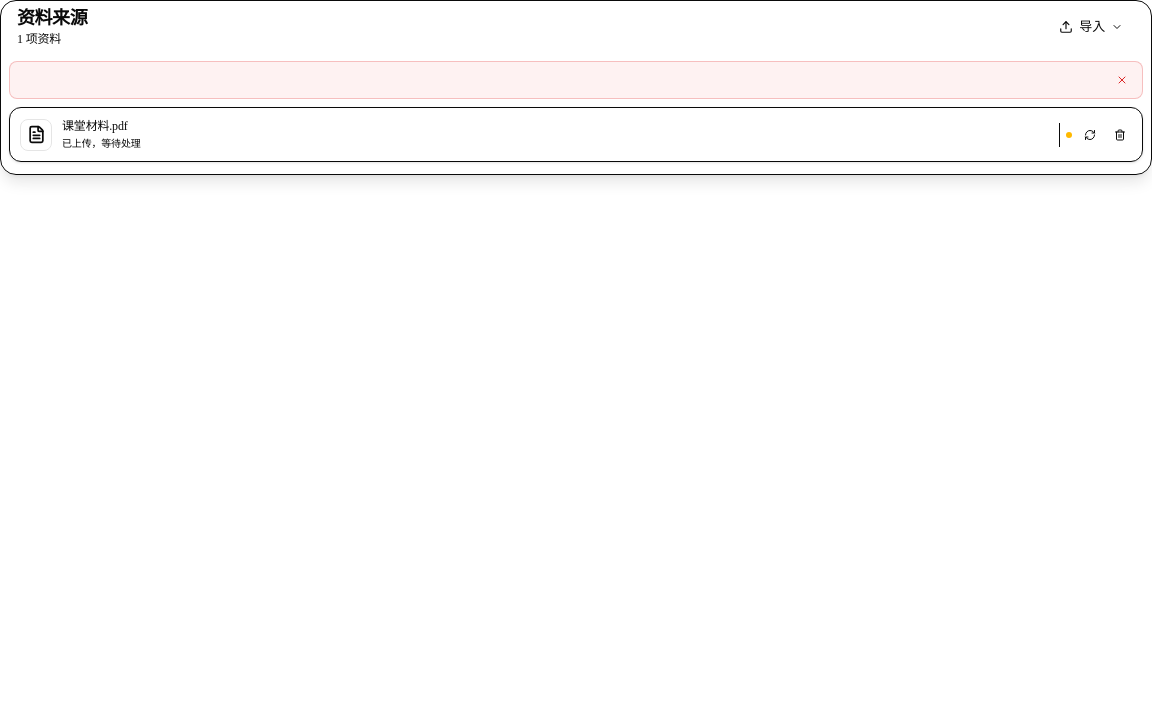
Test: renders persisted sources and removes a confirmed source from the list
Expected: the text "课堂材料.pdf" is shown, [62,119,128,133]
Expected: the text "已上传，等待处理" is shown, [62,138,141,149]
Click the button named "删除 课堂材料.pdf": (1120, 134) [1108,122,1132,146]
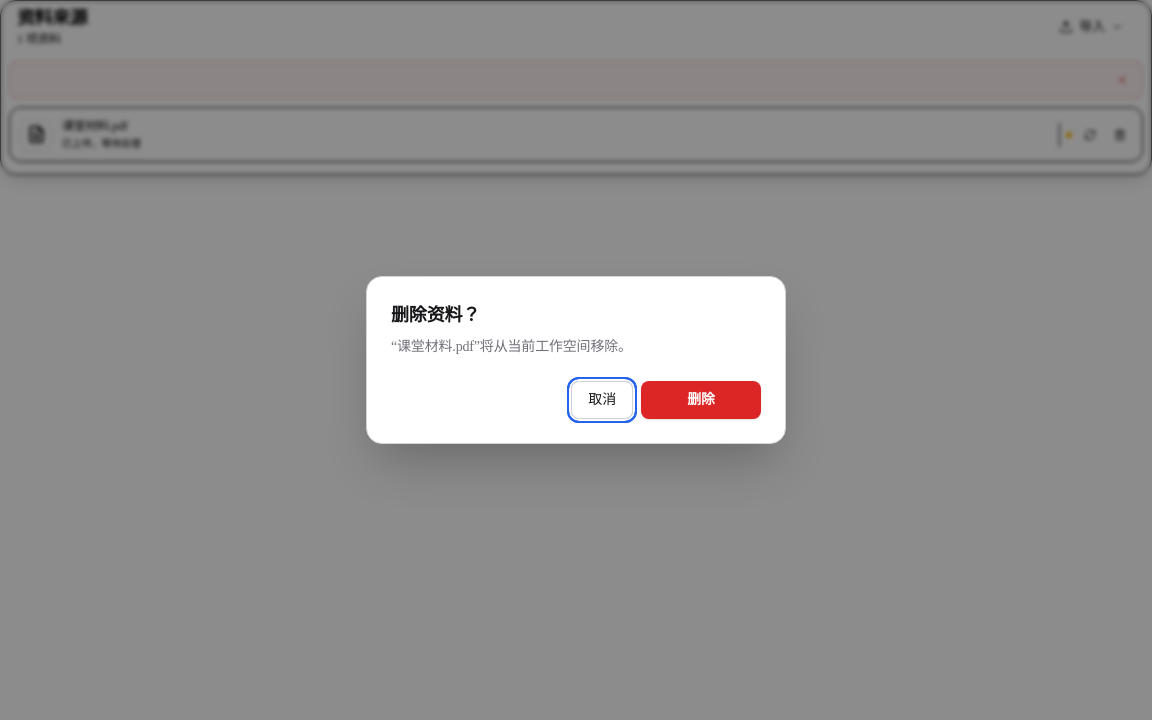
Now the dialog is shown, box [366,276,786,444]
Click the button "删除": (701, 400) [641,381,761,419]
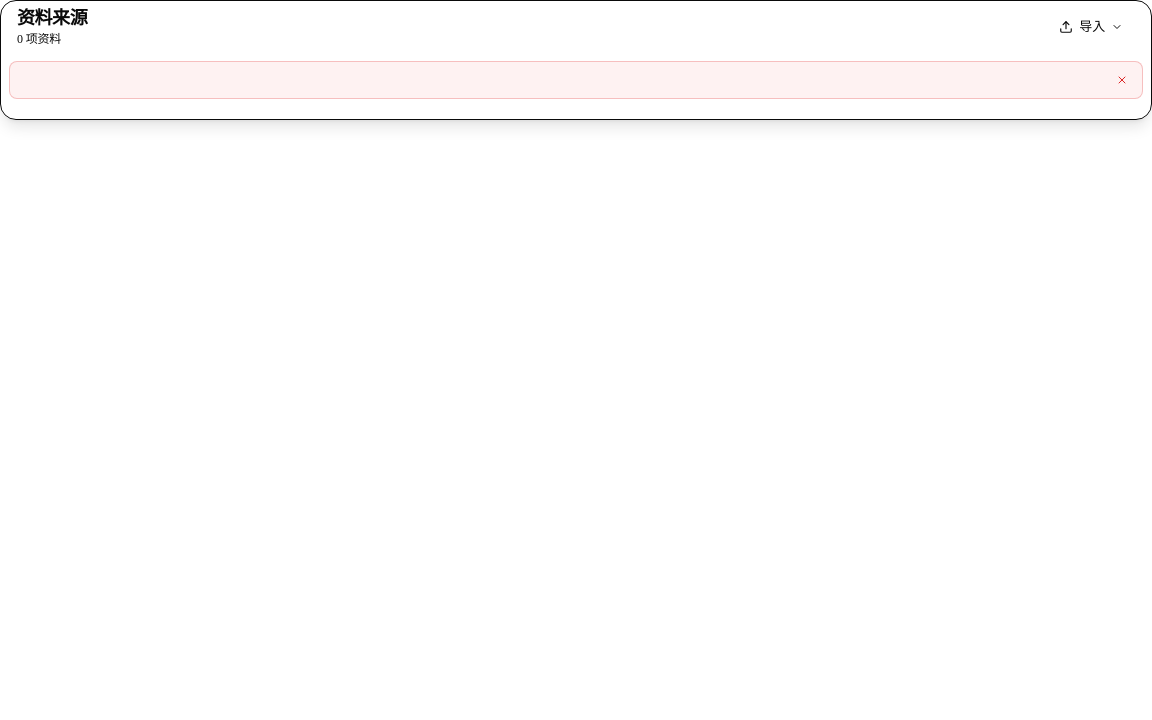
Now the text "课堂材料.pdf" is gone
